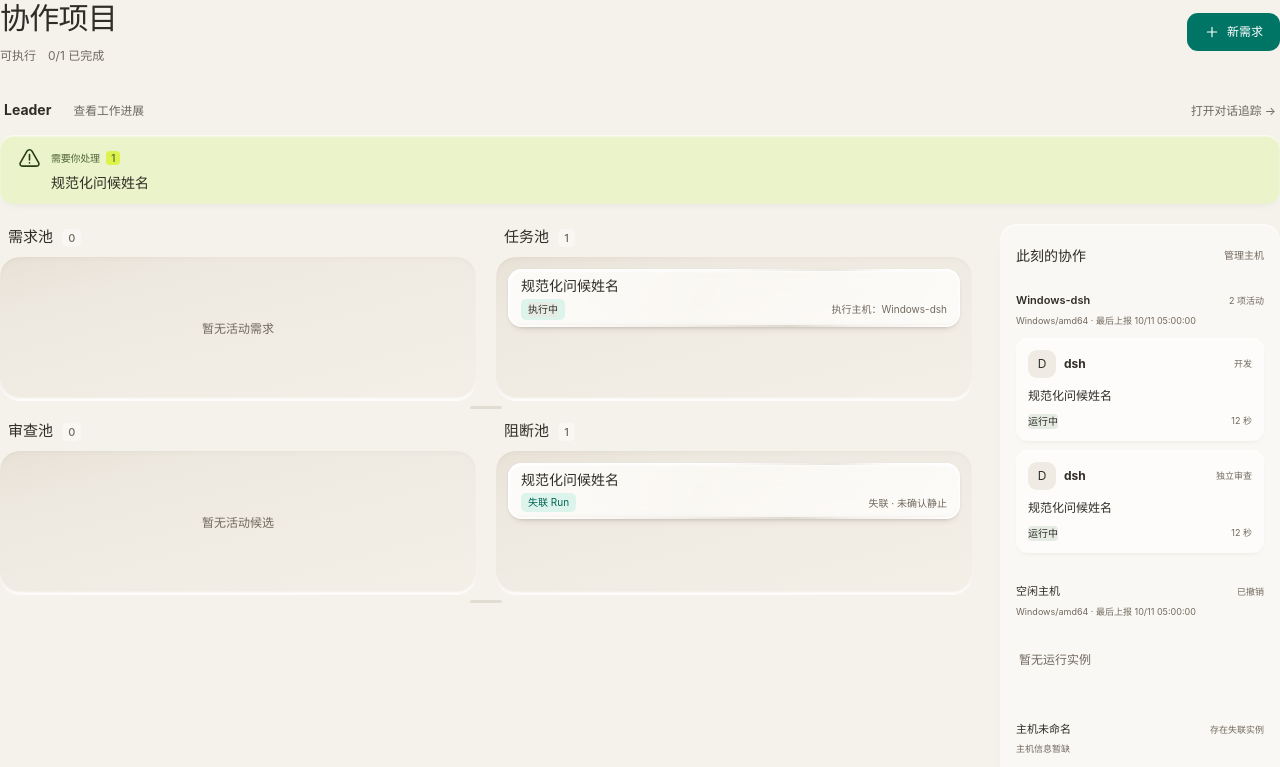
Scenario: Overview factual work lists › groups actual instances by host, keeps unknown and lost hosts and never instantiates capabilities
Click the button "D dsh 独立审查 规范化问候姓名 运行中 12 秒".
click(1140, 502)  # box [1016,450,1264,553]
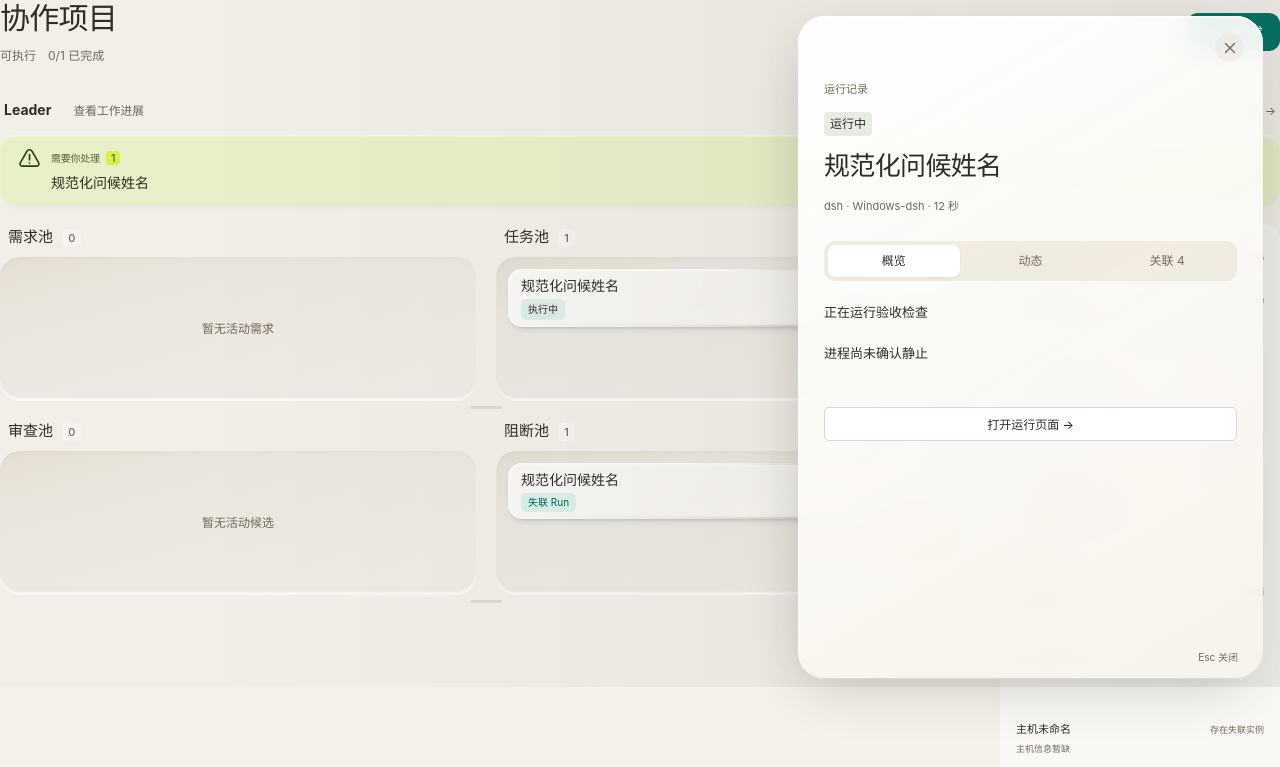
Check: the dialog "规范化问候姓名" is shown, box [798,16,1263,679]
Click the button "打开运行页面 →".
click(1030, 424)  # box [824,408,1237,442]
(page scrolled)
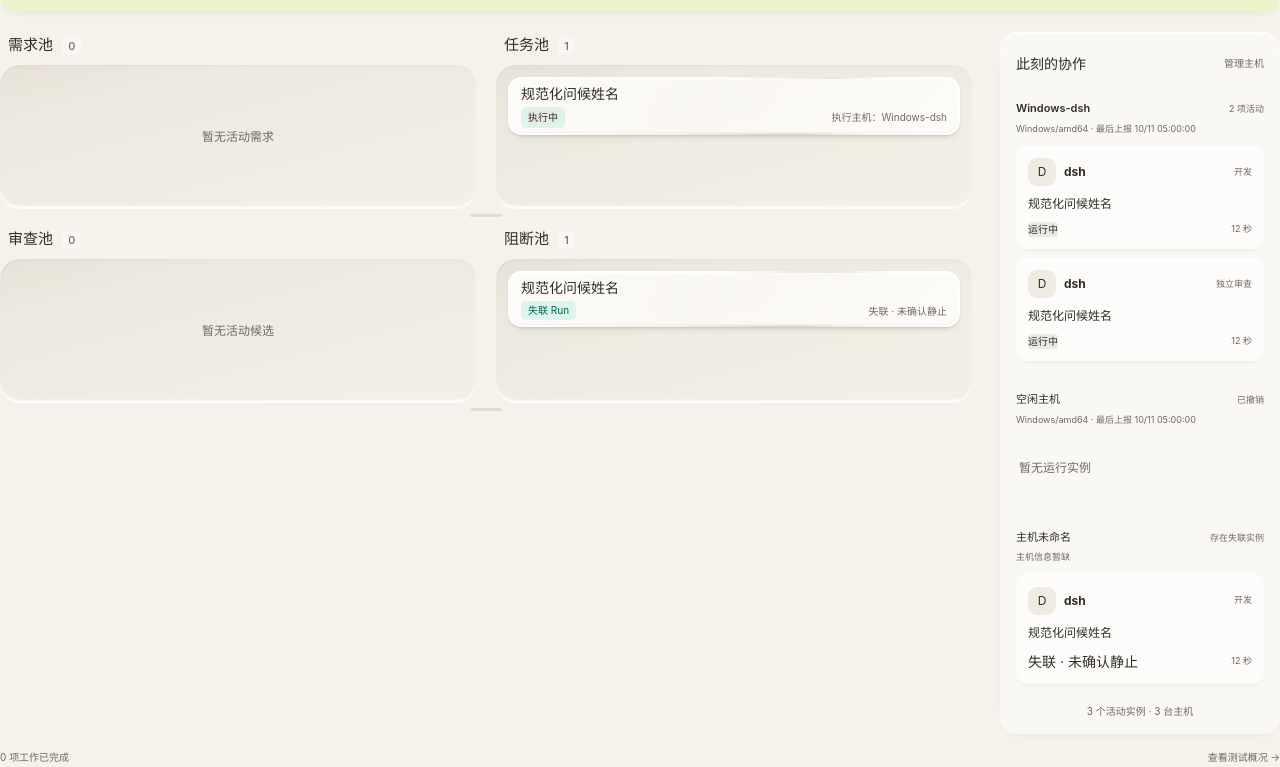
Check: the text "已撤销" is shown, box [1237,393,1264,407]
Check: no the button "打开运行页面 →" are shown
